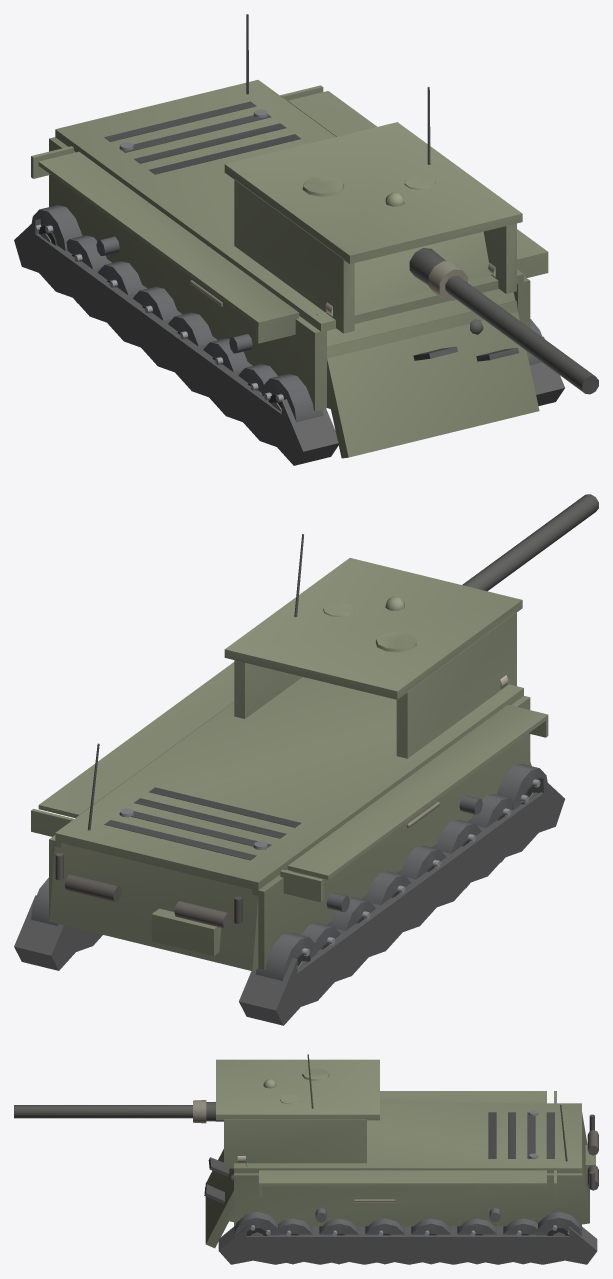
The model's file is isu152.glb.
3 renders of one model, top to bottom at view 1: azimuth 30°, elevation 25°; view 2: azimuth 150°, elevation 25°; view 3: azimuth 270°, elevation 25°, orthographic. The views are drawn at different scales.
Visible parts, largest first — view 1: hullSide, hullTop, turretRoof, glacis, tracks, turretSide, barrel, mantlet, lowerPlate, wheel6, wheel7, wheel2 (+5 smaller); view 2: hullTop, hullSide, turretRoof, tracks, hullRear, turretSide, barrel, wheel7, wheel6, wheel4, wheel3, wheel2 (+2 smaller); view 3: hullSide, hullTop, tracks, turretRoof, turretSide, barrel, glacis, hullRear, wheel15, wheel14, wheel9, wheel10 (+4 smaller).
Part boxes in pixels (x1,y1,x2,y2): hullSide: (31, 85, 548, 410); hullTop: (55, 80, 523, 331); turretRoof: (224, 87, 522, 263); glacis: (316, 289, 539, 458); tracks: (14, 219, 564, 465); turretSide: (234, 179, 516, 333); barrel: (409, 248, 598, 394); mantlet: (354, 231, 490, 308); lowerPlate: (327, 300, 517, 408); wheel6: (262, 374, 323, 422); wheel7: (31, 205, 82, 251); wheel2: (133, 286, 182, 320); hullTop: (55, 677, 523, 890); hullSide: (31, 662, 548, 969); turretRoof: (224, 534, 522, 699); tracks: (14, 778, 564, 1025); hullRear: (49, 743, 258, 971); turretSide: (234, 612, 516, 758); barrel: (462, 494, 598, 591); wheel7: (255, 932, 317, 980); wheel6: (497, 764, 547, 809); wheel4: (432, 819, 481, 887); wheel3: (396, 845, 446, 879); wheel2: (361, 871, 410, 905); hullSide: (234, 1091, 581, 1226); hullTop: (234, 1103, 581, 1173); tracks: (218, 1208, 597, 1264); turretRoof: (216, 1054, 379, 1120); turretSide: (224, 1119, 366, 1168); barrel: (14, 1100, 223, 1123); glacis: (204, 1149, 248, 1248); hullRear: (560, 1104, 598, 1224); wheel15: (536, 1212, 581, 1236); wheel14: (234, 1212, 279, 1236); wheel9: (457, 1218, 496, 1264); wheel10: (411, 1218, 450, 1264).
Size of the model in its own units: 4.28 by 4.11 by 11.43.
